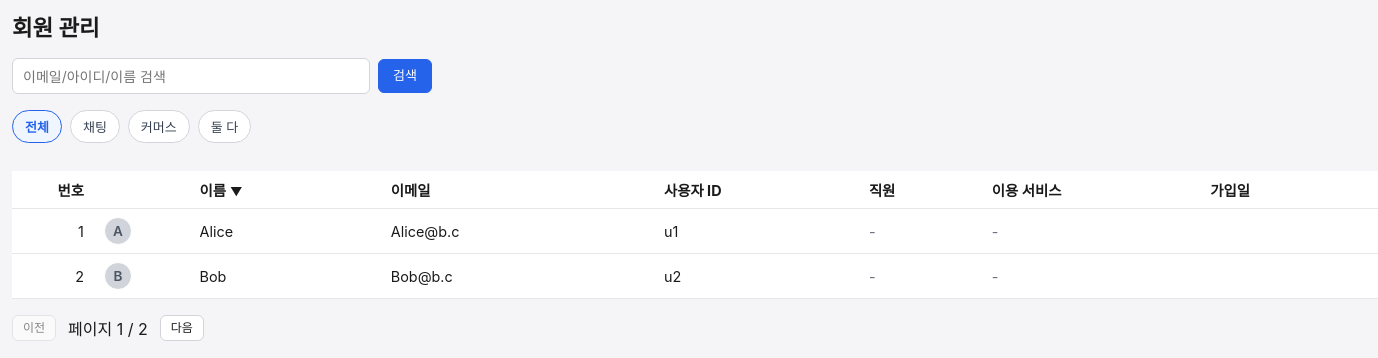
Test case: MembersPage › numbers rows from 1 and keeps counting across pages
Check: the text "Alice" is shown, box [190,208,381,254]
Click the button "다음" at (182,328), box [160,315,204,341]
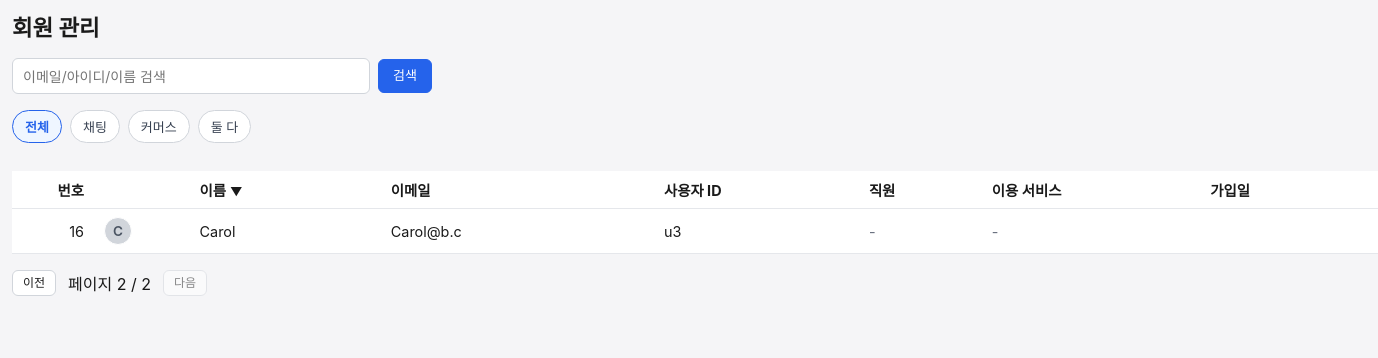
Check: the text "Carol" is shown, box [190,208,381,254]
